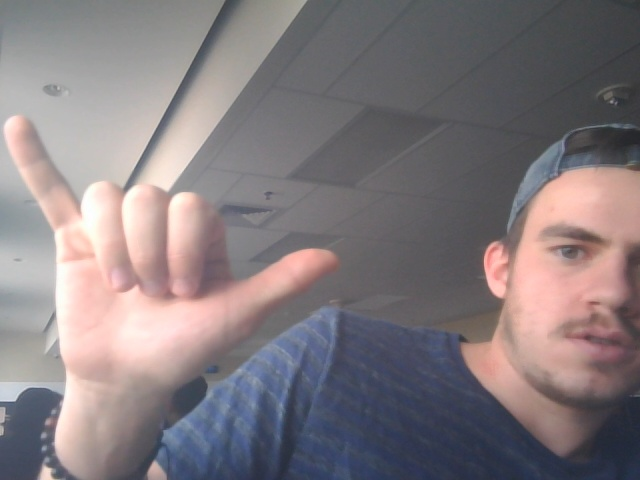birdsup: (1, 112, 346, 400)
